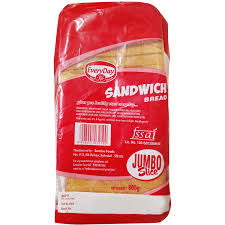bread: (45, 2, 175, 217)
